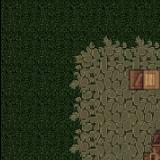Hide: (122, 61, 160, 100)
Obstacle: (132, 122, 160, 160)
